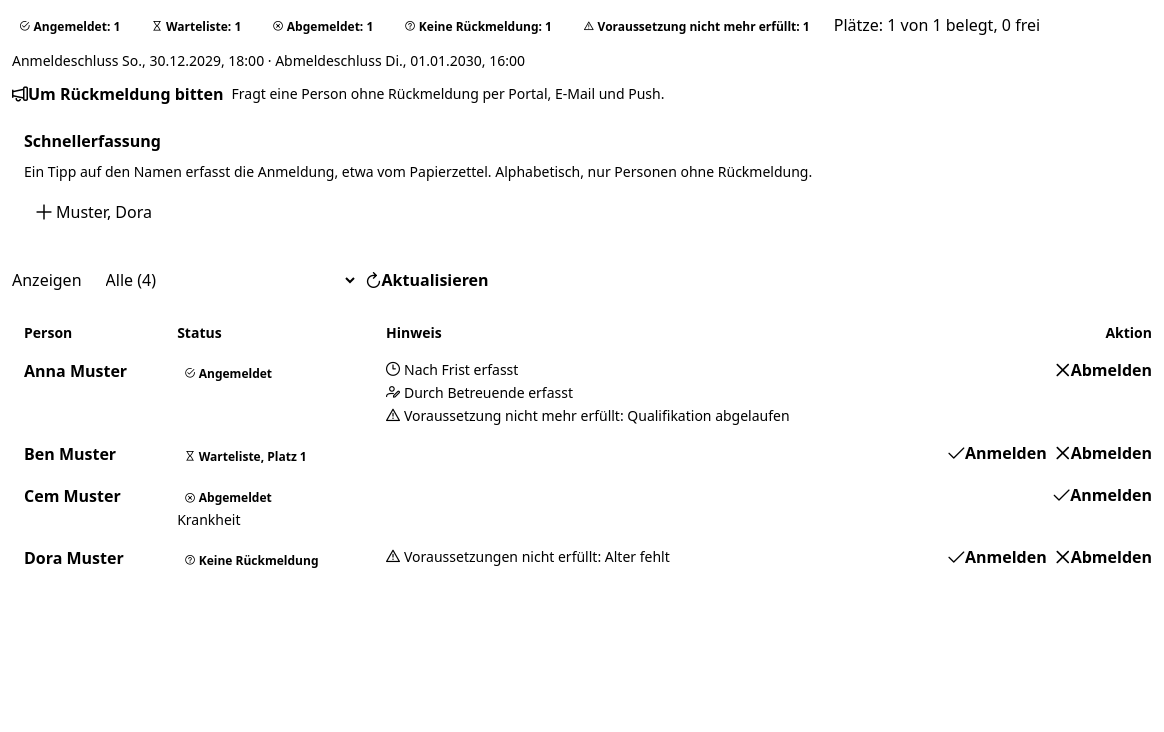
Test: RegistrationsOverview › asks people without a response and names those without a portal account
Click the button "Um Rückmeldung bitten": coordinates (118, 94) [12, 83, 224, 105]
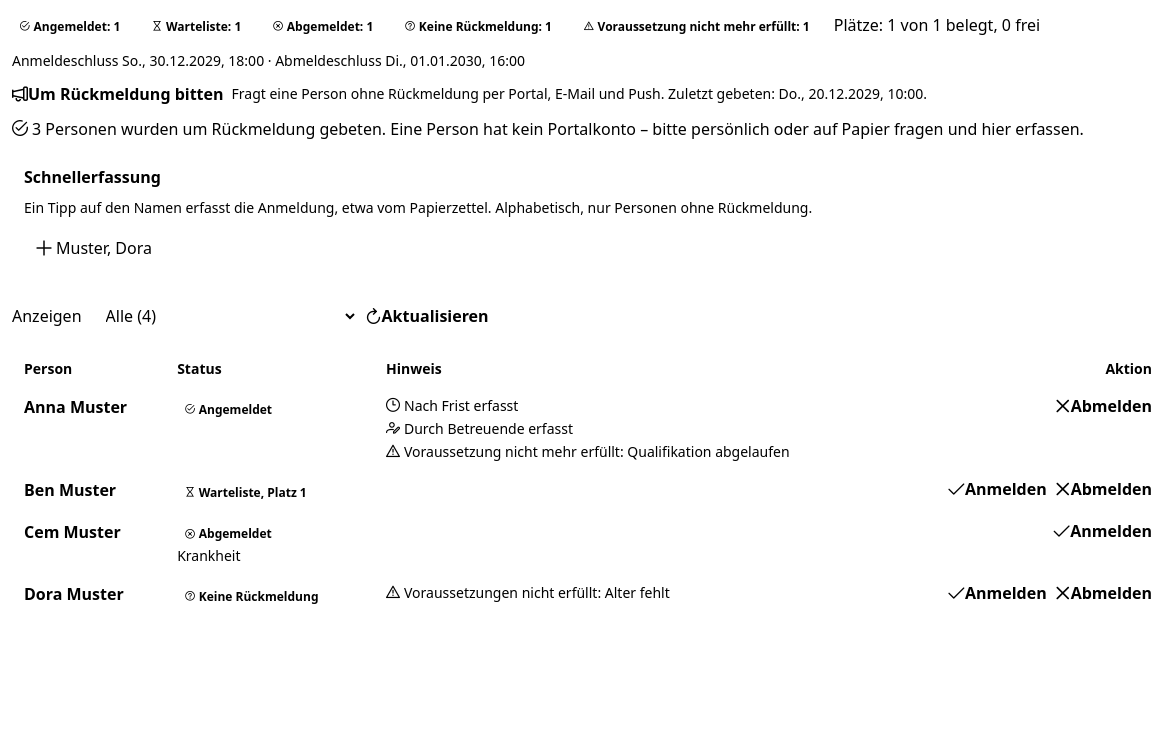
Check: the text "3 Personen wurden um Rückmeldung gebeten. Eine Person hat kein Portalkonto" is shown, box [32, 118, 1084, 140]
Check: the text "Zuletzt gebeten:" is shown, box [668, 84, 927, 103]
